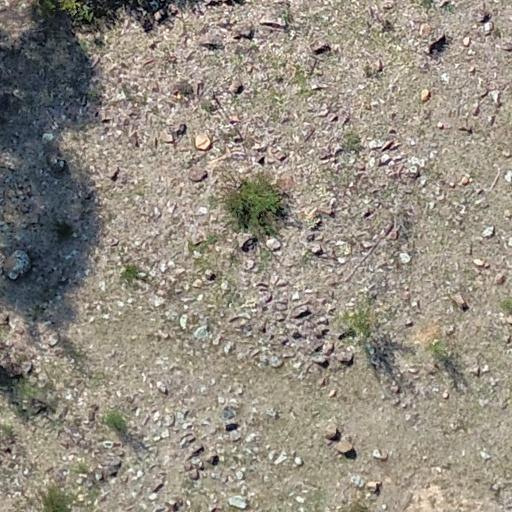stone: (4, 249, 30, 281), (392, 162, 418, 180), (427, 33, 447, 56), (46, 155, 68, 175), (318, 148, 344, 164), (472, 4, 492, 24), (168, 79, 193, 95), (450, 293, 470, 311), (364, 59, 384, 77), (275, 174, 295, 192), (226, 494, 248, 510), (233, 27, 255, 42), (194, 133, 212, 151), (448, 418, 468, 434), (258, 18, 287, 29), (311, 207, 335, 220), (267, 146, 286, 162), (226, 148, 247, 162), (163, 497, 182, 512), (188, 168, 208, 182), (241, 237, 258, 253), (233, 123, 248, 141), (227, 314, 249, 326), (312, 42, 332, 55), (325, 425, 341, 441), (165, 123, 186, 135), (264, 237, 282, 251), (216, 18, 237, 30), (334, 442, 354, 454), (193, 325, 210, 339), (349, 474, 366, 488), (293, 307, 312, 319), (338, 352, 354, 366), (180, 432, 196, 446), (199, 41, 221, 51), (305, 56, 316, 76), (312, 356, 330, 368), (371, 449, 389, 461), (48, 330, 60, 348), (228, 80, 243, 94), (153, 9, 168, 23), (302, 126, 315, 142), (188, 445, 204, 458), (222, 406, 236, 420), (322, 341, 336, 355), (366, 481, 382, 493), (386, 228, 400, 241), (419, 23, 432, 37), (398, 251, 412, 264), (152, 480, 164, 494), (382, 223, 394, 237), (206, 454, 220, 466), (380, 139, 394, 151), (188, 467, 200, 481), (304, 208, 318, 220), (420, 88, 432, 102), (156, 381, 168, 395), (269, 356, 283, 368), (360, 240, 376, 250), (473, 258, 489, 268), (142, 57, 156, 68), (164, 412, 174, 427), (310, 83, 328, 91), (495, 273, 507, 285), (243, 259, 255, 271), (482, 226, 494, 238), (369, 139, 382, 150), (224, 422, 238, 432), (252, 142, 266, 152), (316, 107, 330, 117), (130, 131, 138, 148), (0, 252, 6, 274), (107, 166, 118, 178), (312, 245, 324, 256), (491, 482, 502, 494), (31, 402, 41, 415), (483, 22, 493, 35), (191, 278, 204, 288), (445, 323, 455, 336), (458, 126, 473, 134), (326, 113, 338, 123), (42, 132, 54, 142), (106, 467, 119, 476), (281, 111, 289, 125), (205, 271, 216, 281), (501, 41, 512, 51), (168, 4, 178, 15), (382, 1, 394, 10), (91, 56, 100, 68), (152, 411, 160, 424), (256, 156, 266, 166), (390, 384, 400, 394), (460, 176, 470, 186), (149, 492, 159, 502), (387, 111, 398, 120), (472, 104, 480, 116), (228, 116, 240, 124), (107, 238, 119, 246), (94, 469, 102, 481), (258, 320, 266, 332), (275, 303, 287, 311), (316, 317, 328, 325), (390, 143, 403, 150), (163, 134, 173, 143), (328, 388, 337, 398), (381, 154, 391, 163), (276, 311, 285, 321), (462, 36, 470, 47), (124, 395, 135, 403), (474, 366, 481, 378), (110, 460, 122, 467), (265, 292, 272, 304), (438, 0, 450, 7), (316, 378, 325, 387), (404, 319, 414, 327), (442, 390, 450, 400), (502, 150, 512, 158), (342, 116, 350, 126), (294, 458, 304, 466), (161, 429, 169, 439), (275, 298, 288, 304), (278, 337, 289, 344), (504, 209, 512, 218), (291, 329, 299, 338), (388, 126, 397, 134), (143, 414, 149, 426), (137, 470, 145, 479), (468, 66, 475, 76), (246, 64, 253, 74), (369, 157, 375, 168), (436, 122, 444, 130), (236, 472, 244, 480), (76, 477, 84, 485), (130, 404, 138, 412), (391, 398, 400, 405), (127, 468, 136, 475), (465, 56, 475, 62), (506, 315, 512, 325), (476, 188, 484, 195), (468, 49, 476, 56), (120, 475, 128, 482), (408, 369, 419, 374), (393, 155, 402, 161), (480, 88, 486, 97), (471, 24, 478, 31), (389, 161, 395, 169), (316, 70, 324, 76), (268, 126, 274, 134), (466, 246, 471, 255), (500, 318, 506, 325), (20, 195, 26, 202), (137, 388, 144, 394), (376, 158, 380, 168), (291, 450, 296, 458), (154, 437, 162, 442), (370, 152, 376, 158), (365, 104, 371, 110), (11, 198, 17, 204), (131, 476, 137, 482), (413, 375, 420, 380), (269, 334, 274, 340), (449, 182, 455, 187), (292, 464, 297, 469), (400, 403, 406, 407), (366, 136, 372, 140), (151, 408, 157, 412), (158, 421, 162, 427), (272, 320, 276, 325), (134, 391, 138, 396)
